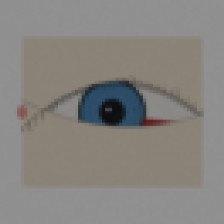hemorrhage_spot: (107, 95, 193, 164)
